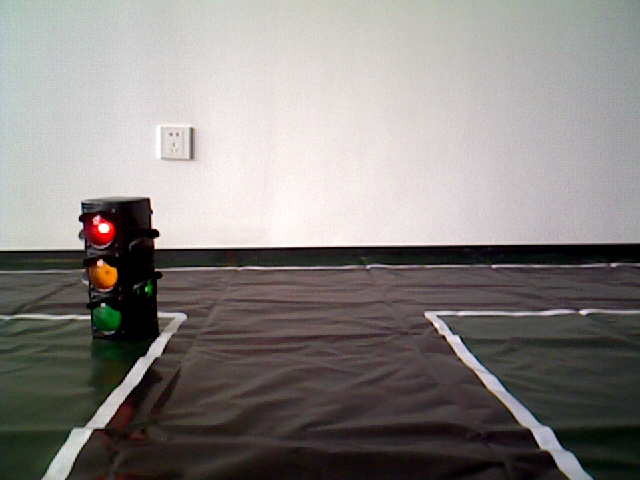red: (82, 204, 156, 337)
